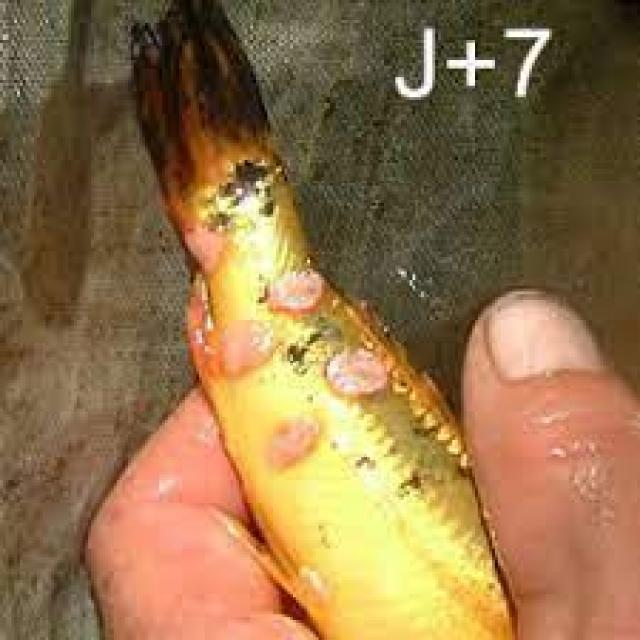EUS Disease: (104, 1, 518, 635), (163, 158, 445, 508)
